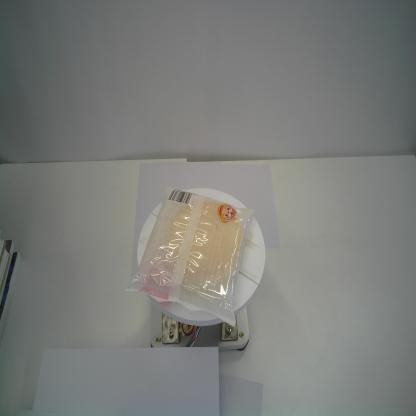Dessert: (121, 184, 256, 330)
